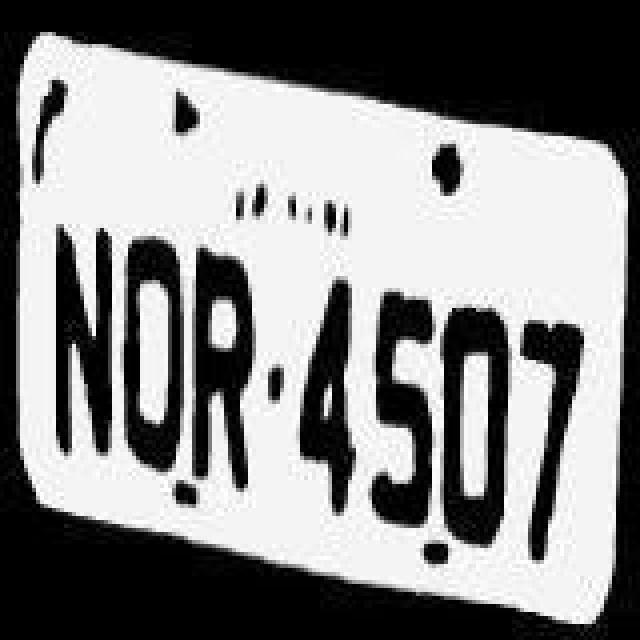4: (290, 256, 358, 516)
5: (364, 260, 436, 528)
7: (506, 296, 582, 568)
N: (42, 214, 118, 474)
O: (438, 274, 514, 546), (114, 222, 190, 474)
R: (190, 236, 266, 488)
